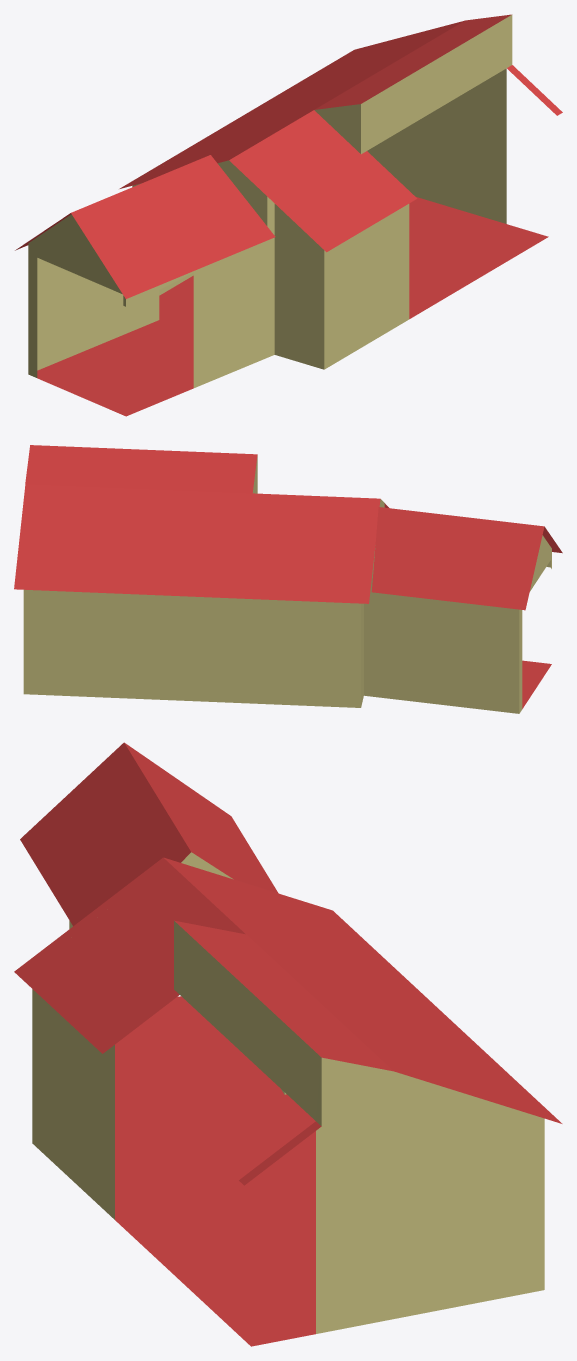
3 views of the same model, one above another, from view 1: azimuth 30°, elevation 25°; view 2: azimuth 150°, elevation 25°; view 3: azimuth 270°, elevation 25° (orthographic). The views are drawn at different scales.
Size of the model in its own units: 31.73 by 19.92 by 11.29.
